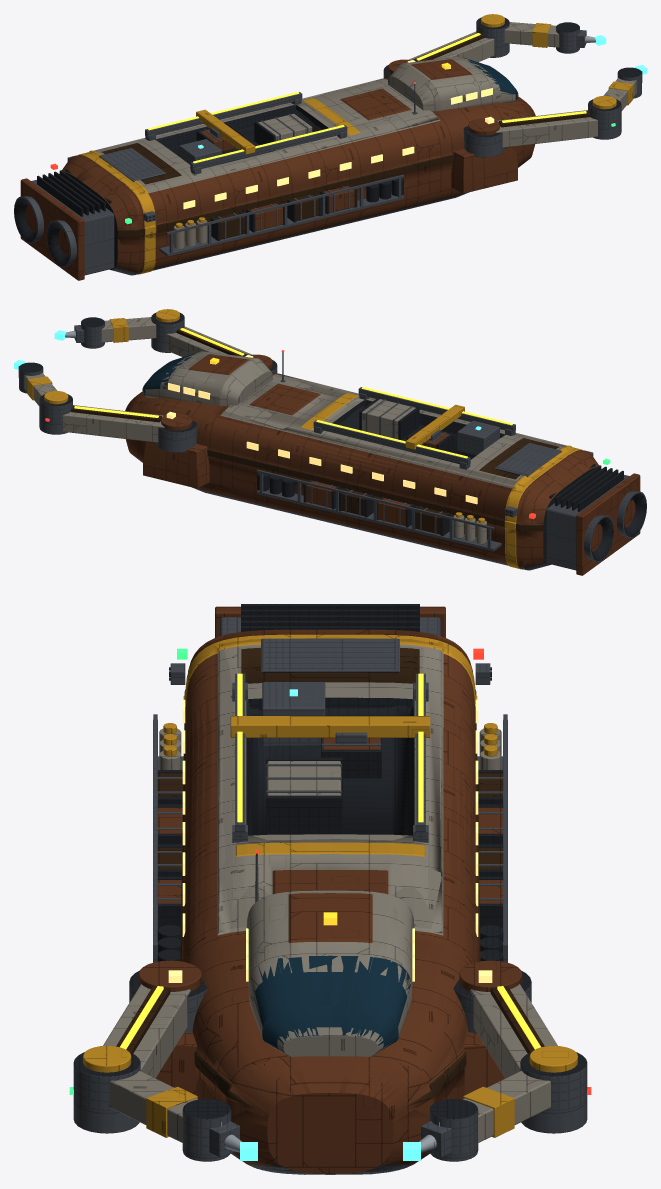
File: repair_tender.glb
3 views of the same model, one above another, from view 1: azimuth 30°, elevation 25°; view 2: azimuth 150°, elevation 25°; view 3: azimuth 270°, elevation 25° (orthographic). The views are drawn at different scales.
Visible parts, largest first — view 1: LOD0_MOTION_HULL_CORE_Hull, LOD0_MOTION_HULL_CORE_Mechanical, LOD0_MOTION_HULL_CORE_Armor, LOD1_MOTION_HULL_CORE_Hull, LOD0_MOTION_HULL_CORE_MechanicalDark, LOD1_MOTION_HULL_CORE_Armor, LOD0_MOTION_HULL_CORE_Livery, LOD0_MOTION_HULL_CORE_Warning, LOD2_MOTION_HULL_CORE_Hull, LOD1_MOTION_HULL_CORE_Mechanical, LOD1_MOTION_HULL_CORE_MechanicalDark, LOD2_MOTION_HULL_CORE_Armor (+8 smaller); view 2: LOD0_MOTION_HULL_CORE_Hull, LOD0_MOTION_HULL_CORE_Mechanical, LOD1_MOTION_HULL_CORE_Hull, LOD0_MOTION_HULL_CORE_Armor, LOD1_MOTION_HULL_CORE_Armor, LOD0_MOTION_HULL_CORE_MechanicalDark, LOD0_MOTION_HULL_CORE_Livery, LOD0_MOTION_HULL_CORE_Warning, LOD1_MOTION_HULL_CORE_Mechanical, LOD2_MOTION_HULL_CORE_Hull, LOD1_MOTION_HULL_CORE_MechanicalDark, LOD1_MOTION_HULL_CORE_Livery (+7 smaller); view 3: LOD0_MOTION_HULL_CORE_Hull, LOD0_MOTION_HULL_CORE_Armor, LOD0_MOTION_HULL_CORE_Mechanical, LOD1_MOTION_HULL_CORE_Hull, LOD0_MOTION_HULL_CORE_MechanicalDark, LOD1_MOTION_HULL_CORE_Armor, LOD0_MOTION_HULL_CORE_Warning, LOD2_MOTION_HULL_CORE_Hull, LOD1_MOTION_HULL_CORE_MechanicalDark, LOD1_MOTION_HULL_CORE_Mechanical, LOD0_MOTION_HULL_CORE_Livery, LOD0_MOTION_HULL_CORE_CANOPY (+9 smaller).
Boxes of the visible parts, x1=… form: LOD0_MOTION_HULL_CORE_Hull: x1=20, y1=59, x2=534, y2=280; LOD0_MOTION_HULL_CORE_Mechanical: x1=14, y1=24, x2=642, y2=275; LOD0_MOTION_HULL_CORE_Armor: x1=99, y1=22, x2=636, y2=249; LOD1_MOTION_HULL_CORE_Hull: x1=21, y1=64, x2=533, y2=280; LOD0_MOTION_HULL_CORE_MechanicalDark: x1=14, y1=17, x2=641, y2=269; LOD1_MOTION_HULL_CORE_Armor: x1=93, y1=22, x2=636, y2=249; LOD0_MOTION_HULL_CORE_Livery: x1=117, y1=32, x2=589, y2=239; LOD0_MOTION_HULL_CORE_Warning: x1=78, y1=14, x2=633, y2=274; LOD2_MOTION_HULL_CORE_Hull: x1=76, y1=59, x2=535, y2=280; LOD1_MOTION_HULL_CORE_Mechanical: x1=20, y1=29, x2=630, y2=274; LOD1_MOTION_HULL_CORE_MechanicalDark: x1=15, y1=20, x2=641, y2=263; LOD2_MOTION_HULL_CORE_Armor: x1=144, y1=29, x2=622, y2=186; LOD0_MOTION_HULL_CORE_Hull: x1=125, y1=354, x2=640, y2=575; LOD0_MOTION_HULL_CORE_Mechanical: x1=18, y1=319, x2=646, y2=570; LOD1_MOTION_HULL_CORE_Hull: x1=126, y1=359, x2=639, y2=575; LOD0_MOTION_HULL_CORE_Armor: x1=24, y1=317, x2=567, y2=544; LOD1_MOTION_HULL_CORE_Armor: x1=24, y1=317, x2=566, y2=544; LOD0_MOTION_HULL_CORE_MechanicalDark: x1=19, y1=312, x2=646, y2=564; LOD0_MOTION_HULL_CORE_Livery: x1=71, y1=327, x2=543, y2=534; LOD0_MOTION_HULL_CORE_Warning: x1=27, y1=309, x2=582, y2=569; LOD1_MOTION_HULL_CORE_Mechanical: x1=18, y1=326, x2=646, y2=569; LOD2_MOTION_HULL_CORE_Hull: x1=126, y1=354, x2=582, y2=575; LOD1_MOTION_HULL_CORE_MechanicalDark: x1=19, y1=315, x2=639, y2=559; LOD1_MOTION_HULL_CORE_Livery: x1=210, y1=438, x2=559, y2=533; LOD0_MOTION_HULL_CORE_Hull: x1=138, y1=606, x2=522, y2=1173; LOD0_MOTION_HULL_CORE_Armor: x1=103, y1=644, x2=557, y2=1142; LOD0_MOTION_HULL_CORE_Mechanical: x1=73, y1=617, x2=587, y2=1174; LOD1_MOTION_HULL_CORE_Hull: x1=139, y1=606, x2=521, y2=1173; LOD0_MOTION_HULL_CORE_MechanicalDark: x1=74, y1=604, x2=586, y2=1119; LOD1_MOTION_HULL_CORE_Armor: x1=104, y1=644, x2=557, y2=1141; LOD0_MOTION_HULL_CORE_Warning: x1=83, y1=634, x2=577, y2=1137; LOD2_MOTION_HULL_CORE_Hull: x1=139, y1=606, x2=521, y2=1173; LOD1_MOTION_HULL_CORE_MechanicalDark: x1=74, y1=604, x2=586, y2=1161; LOD1_MOTION_HULL_CORE_Mechanical: x1=75, y1=617, x2=584, y2=1173; LOD0_MOTION_HULL_CORE_Livery: x1=116, y1=648, x2=544, y2=1106; LOD0_MOTION_HULL_CORE_CANOPY: x1=254, y1=972, x2=406, y2=1049.
Size of what is drawn, in the model's own units: 25.59 by 4.94 by 9.92.
15 materials, 7 textured.
